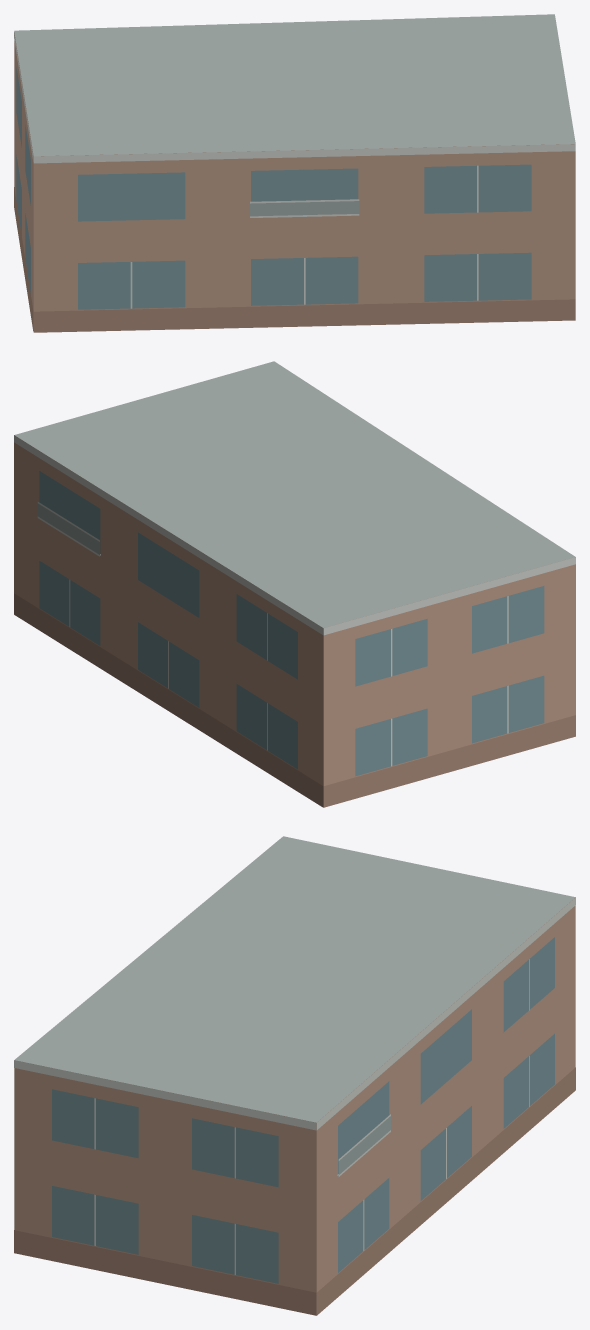
The model's file is survey-upis-32844501.glb.
The picture shows the model from 3 angles, top to bottom: view 1: azimuth 30°, elevation 25°; view 2: azimuth 150°, elevation 25°; view 3: azimuth 270°, elevation 25°; orthographic projection. The views are drawn at different scales.
Visible parts, largest first — view 1: survey-upis-32844501.tmp; view 2: survey-upis-32844501.tmp; view 3: survey-upis-32844501.tmp.
Boxes of the visible parts, left/top/right/bottom form: survey-upis-32844501.tmp: left=14, top=14, right=575, bottom=332; survey-upis-32844501.tmp: left=14, top=361, right=575, bottom=807; survey-upis-32844501.tmp: left=14, top=836, right=575, bottom=1315.
Bounding box in the file's own units: 19.11 × 6 × 15.83.
